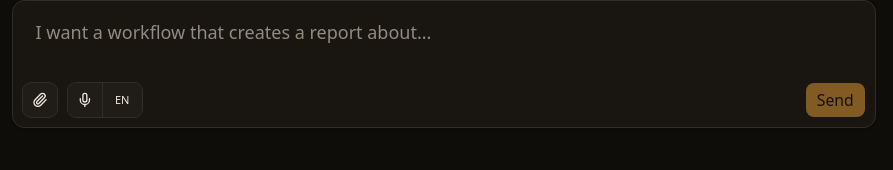
voice input › records, then puts the transcription in the input to review before sending
Click the button named "Record a voice message".
click(85, 100)  # box x1=67 y1=82 x2=103 y2=118
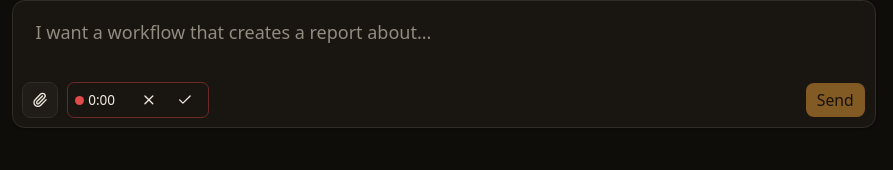
Click the button named "Stop and transcribe".
click(185, 100)  # box x1=169 y1=84 x2=201 y2=116
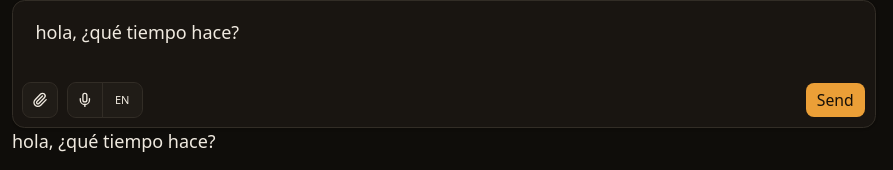
Now the text with test id "input" reads "hola, ¿qué tiempo hace?", box x1=12 y1=129 x2=216 y2=153
Now the button named "Record a voice message" is shown, box x1=67 y1=82 x2=103 y2=118
